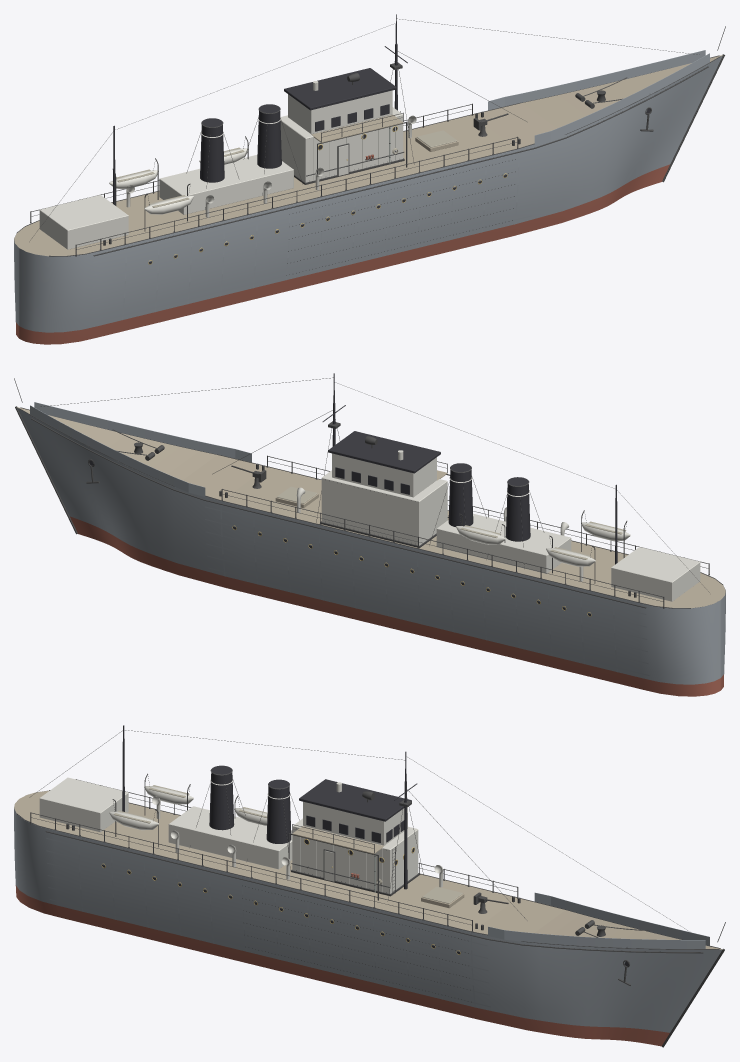
Rendered from sea.glb.
3 renders of one model, top to bottom at view 1: azimuth 30°, elevation 25°; view 2: azimuth 150°, elevation 25°; view 3: azimuth 330°, elevation 25°, orthographic.
Parts seen in each view (by area): view 1: sea.ship_paint, sea.white_paint, sea.deck_wood, sea.iron, sea.boot_red, sea.black, sea.canvas; view 2: sea.ship_paint, sea.white_paint, sea.deck_wood, sea.boot_red, sea.iron, sea.black, sea.canvas; view 3: sea.ship_paint, sea.white_paint, sea.deck_wood, sea.iron, sea.boot_red, sea.black, sea.canvas.
Part boxes in pixels (box(x1,y1,x2,y2)): sea.ship_paint: box(14, 50, 722, 332); sea.white_paint: box(39, 81, 416, 249); sea.deck_wood: box(14, 55, 722, 256); sea.iron: box(17, 18, 725, 275); sea.boot_red: box(16, 154, 669, 344); sea.black: box(113, 14, 650, 264); sea.canvas: box(116, 130, 457, 207); sea.ship_paint: box(17, 402, 725, 684); sea.white_paint: box(296, 450, 700, 601); sea.deck_wood: box(17, 407, 725, 608); sea.boot_red: box(70, 516, 723, 696); sea.iron: box(14, 377, 722, 608); sea.black: box(89, 373, 617, 616); sea.canvas: box(277, 486, 626, 559); sea.ship_paint: box(14, 790, 722, 1032); sea.white_paint: box(39, 777, 443, 893); sea.deck_wood: box(14, 790, 722, 949); sea.iron: box(17, 730, 725, 1047); sea.boot_red: box(15, 873, 669, 1046); sea.black: box(102, 725, 628, 965); sea.canvas: box(113, 785, 462, 903).
Bounding box in the file's own units: 86.43 × 26.66 × 10.25.
